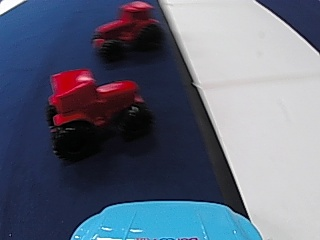tractor: (41, 67, 153, 158), (91, 0, 159, 62)
